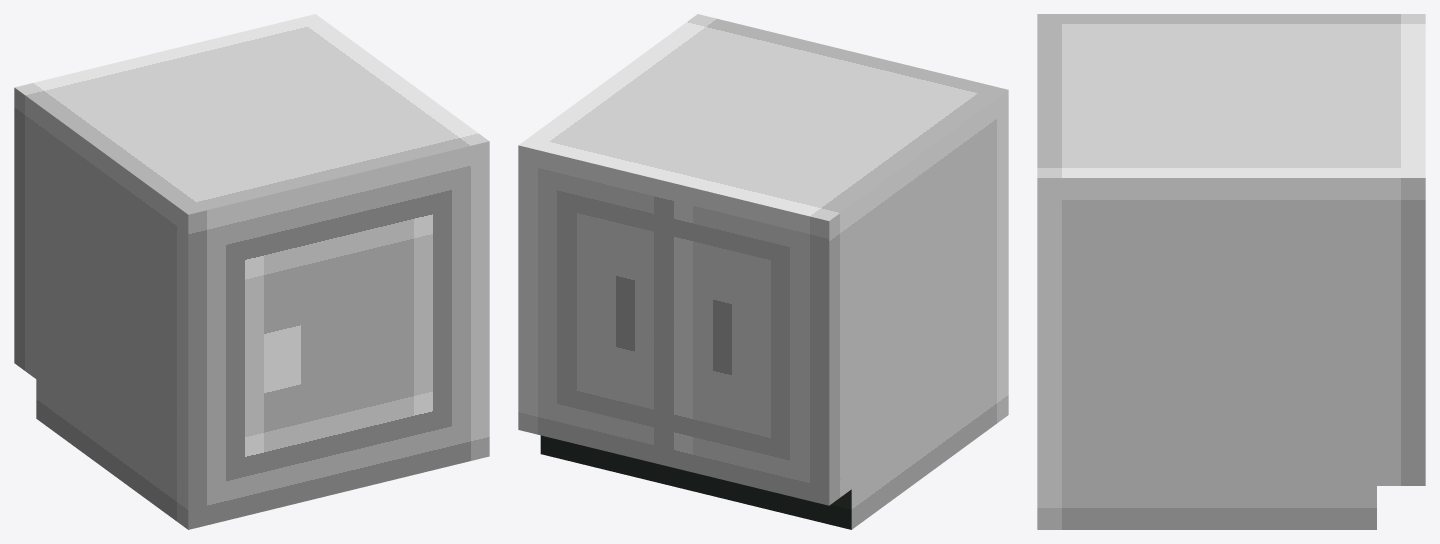
File: plinth_base.obj
3 views of the same model, side by side, from view 1: azimuth 30°, elevation 25°; view 2: azimuth 150°, elevation 25°; view 3: azimuth 270°, elevation 25° (orthographic). The views are drawn at different scales.
Size of the model in its own units: 1 by 1 by 1.
